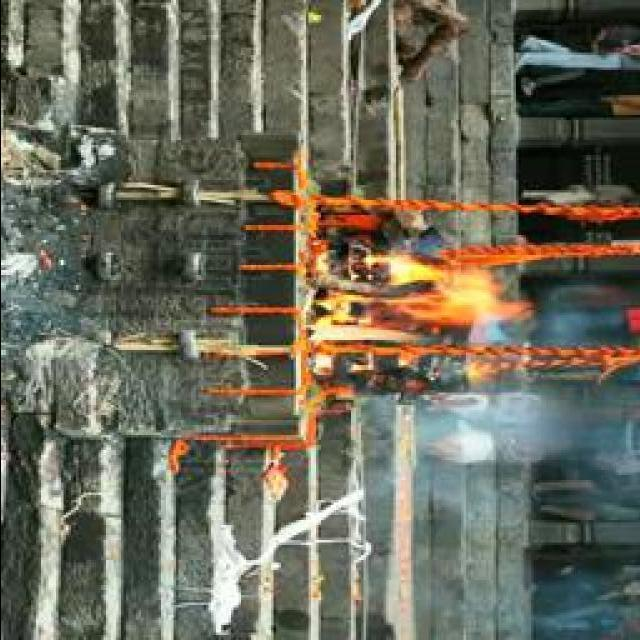Fire: (305, 258, 528, 348)
